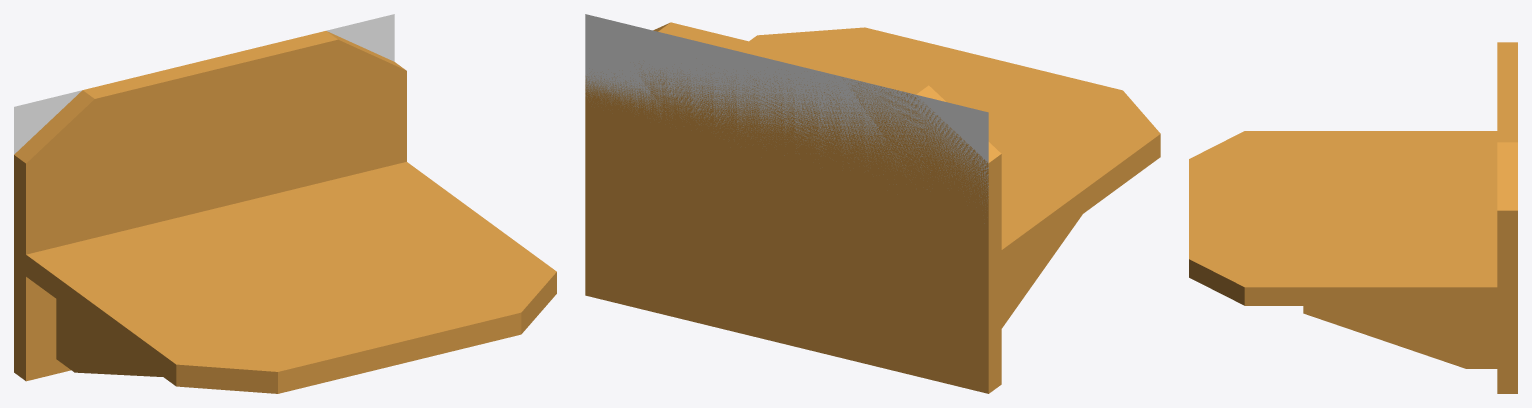
The model's file is 中跳板.glb.
The picture shows the model from 3 angles, left to right: view 1: azimuth 30°, elevation 25°; view 2: azimuth 150°, elevation 25°; view 3: azimuth 270°, elevation 25°; orthographic projection. The views are drawn at different scales.
Parts seen in each view (by area): view 1: 平面.010, 平面.011, 平面.012, 中跳板; view 2: 平面.011, 平面.010, 中跳板, 平面.012; view 3: 平面.010, 平面.012, 平面.011.
Boxes of the visible parts, bbox=[...] form: 平面.010: bbox=[26, 162, 556, 393]; 平面.011: bbox=[14, 31, 406, 381]; 平面.012: bbox=[56, 299, 162, 376]; 中跳板: bbox=[14, 14, 394, 154]; 平面.011: bbox=[585, 22, 1001, 393]; 平面.010: bbox=[749, 27, 1160, 272]; 中跳板: bbox=[585, 14, 988, 223]; 平面.012: bbox=[1001, 214, 1082, 328]; 平面.010: bbox=[1189, 131, 1497, 305]; 平面.012: bbox=[1303, 306, 1497, 368]; 平面.011: bbox=[1497, 42, 1517, 393].
Size of the model in its own units: 0.3 by 0.2 by 0.2666.
